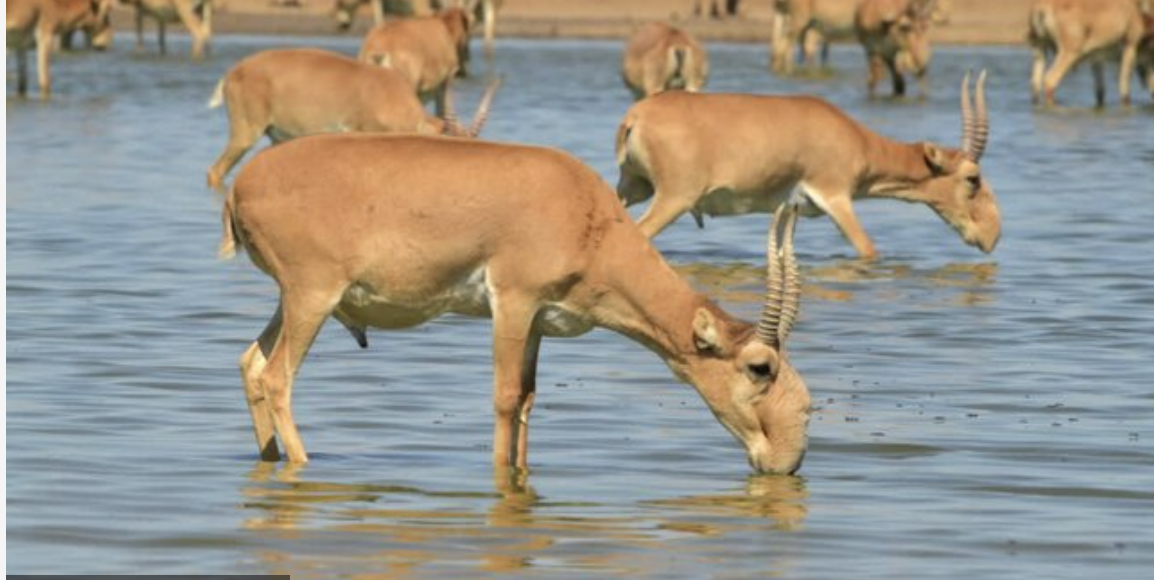saiga: (223, 117, 820, 525)
